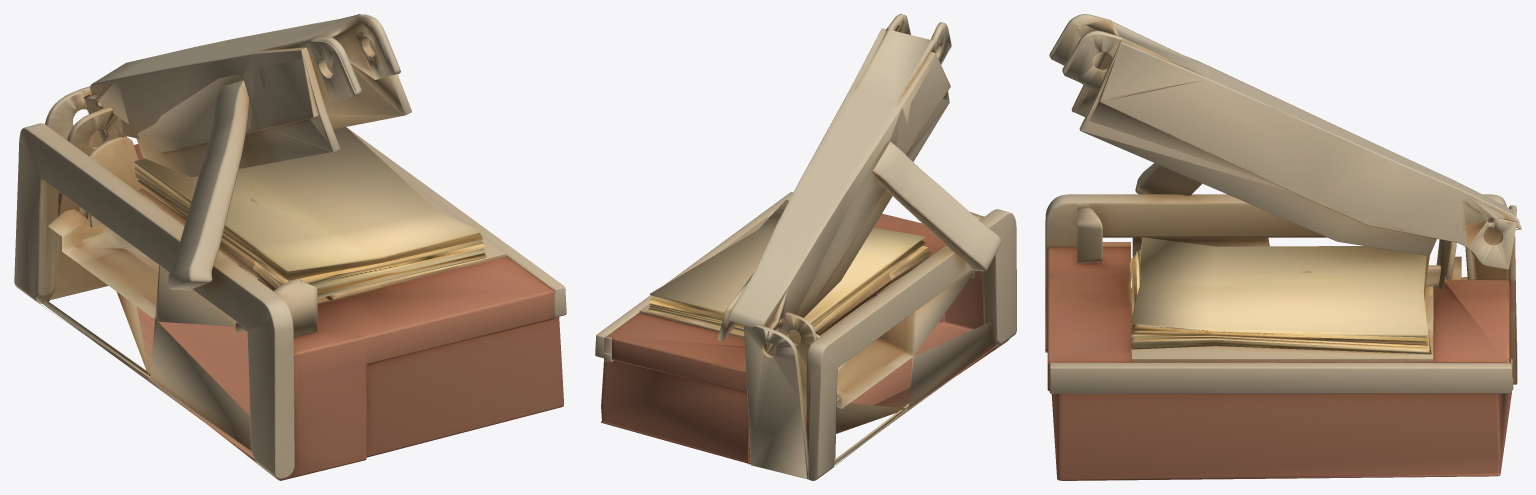
The picture shows the model from 3 angles, left to right: view 1: azimuth 30°, elevation 25°; view 2: azimuth 150°, elevation 25°; view 3: azimuth 270°, elevation 25°; orthographic projection. The views are drawn at different scales.
Visible parts, largest first — view 1: tripo_node_7655d68f-07a5-4698-8803-9c0c797a0787; view 2: tripo_node_7655d68f-07a5-4698-8803-9c0c797a0787; view 3: tripo_node_7655d68f-07a5-4698-8803-9c0c797a0787.
Boxes of the visible parts, bbox=[...] form: tripo_node_7655d68f-07a5-4698-8803-9c0c797a0787: bbox=[14, 14, 566, 480]; tripo_node_7655d68f-07a5-4698-8803-9c0c797a0787: bbox=[595, 14, 1016, 480]; tripo_node_7655d68f-07a5-4698-8803-9c0c797a0787: bbox=[1045, 14, 1521, 480].
Bounding box in the file's own units: 0.7231 × 0.8687 × 0.9995.
1 material, 1 textured.
